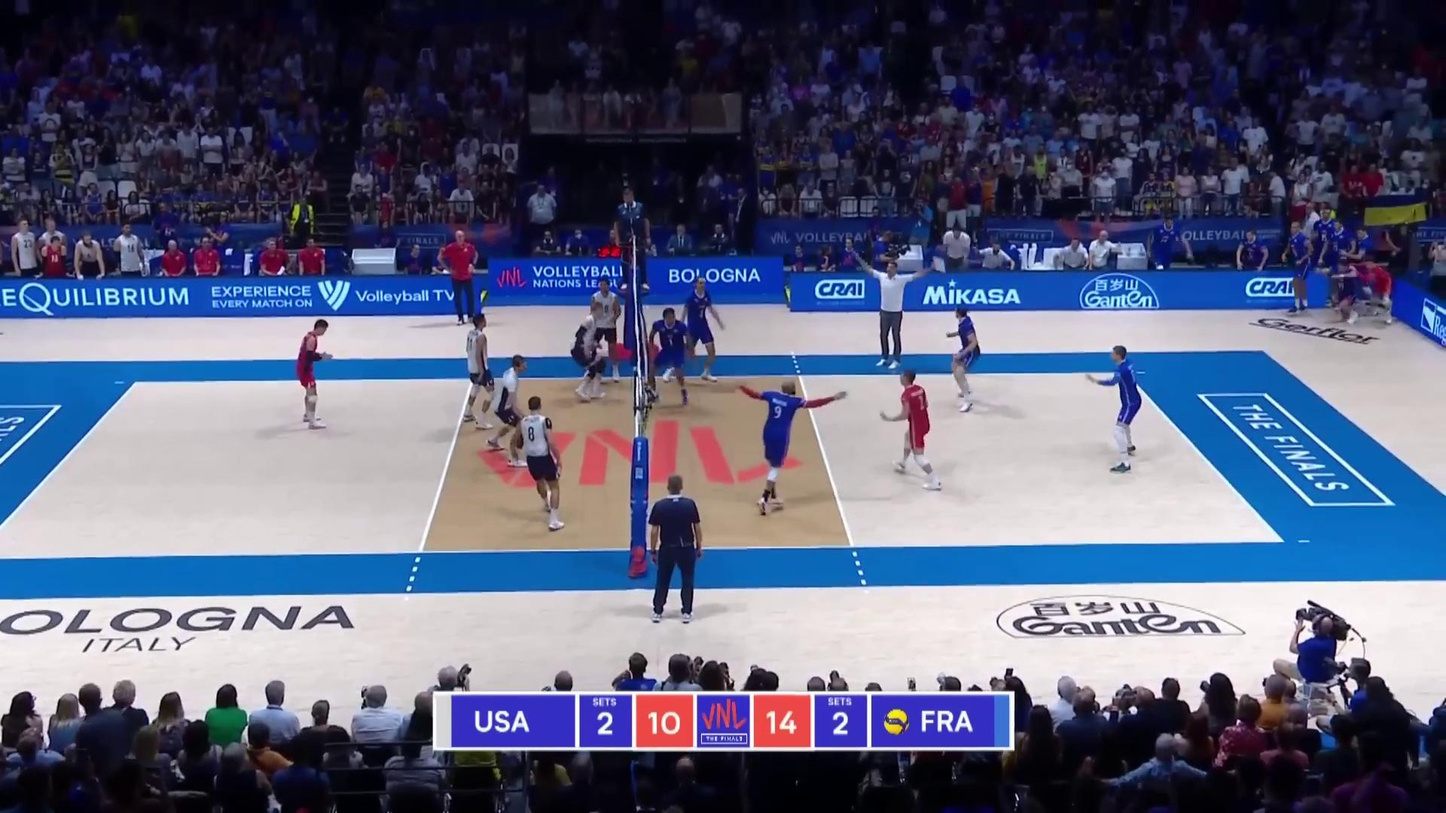player: (736, 377, 828, 518), (881, 369, 943, 492), (1089, 346, 1148, 473), (515, 398, 567, 534), (665, 277, 723, 384), (646, 308, 696, 413), (487, 354, 529, 468), (465, 317, 499, 436), (571, 304, 612, 402), (584, 280, 622, 385), (948, 309, 985, 416), (298, 319, 333, 428)
refree: (643, 476, 703, 624), (614, 187, 650, 292)
